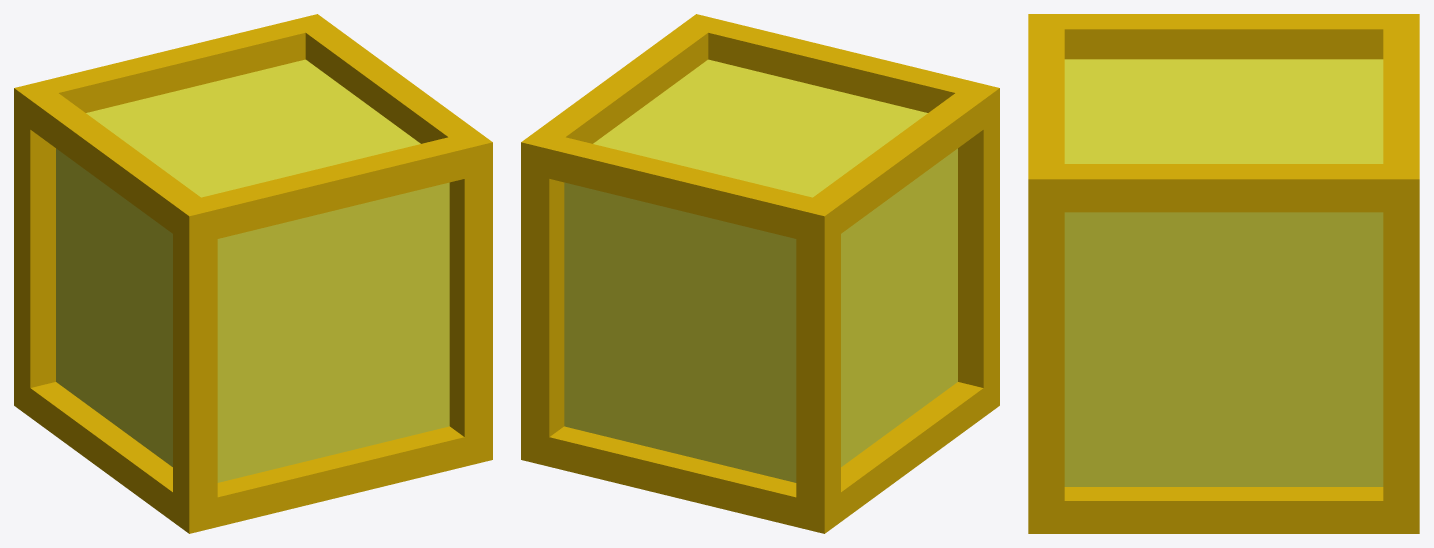
Rendered from yellowbox.fbx.
3 views of the same model, side by side, from view 1: azimuth 30°, elevation 25°; view 2: azimuth 150°, elevation 25°; view 3: azimuth 270°, elevation 25° (orthographic). The views are drawn at different scales.
Parts seen in each view (by area): view 1: Cube.001, Cube; view 2: Cube.001, Cube; view 3: Cube.001, Cube.
Boxes of the visible parts, bbox=[...] form: Cube.001: bbox=[56, 59, 449, 482]; Cube: bbox=[14, 14, 492, 533]; Cube.001: bbox=[564, 59, 957, 482]; Cube: bbox=[521, 14, 999, 533]; Cube.001: bbox=[1064, 59, 1383, 486]; Cube: bbox=[1028, 14, 1419, 533].
Size of the model in its own units: 136 by 136 by 136.
